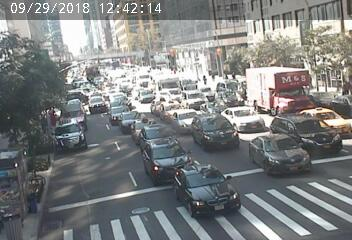car: (277, 115, 343, 157), (182, 166, 235, 208), (249, 70, 306, 108), (144, 138, 193, 176), (251, 140, 298, 170), (203, 119, 243, 151), (56, 127, 95, 157), (232, 108, 262, 134), (179, 89, 208, 111), (173, 109, 201, 131), (138, 125, 172, 141), (155, 79, 185, 96), (60, 100, 85, 120), (105, 100, 130, 116), (118, 113, 140, 128), (110, 87, 130, 103), (151, 100, 175, 113), (89, 99, 107, 115), (133, 118, 151, 133), (134, 90, 152, 99)
